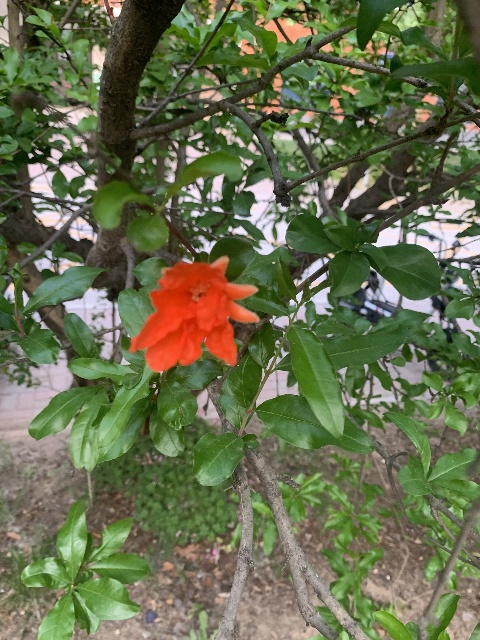flower: (128, 255, 260, 372)
